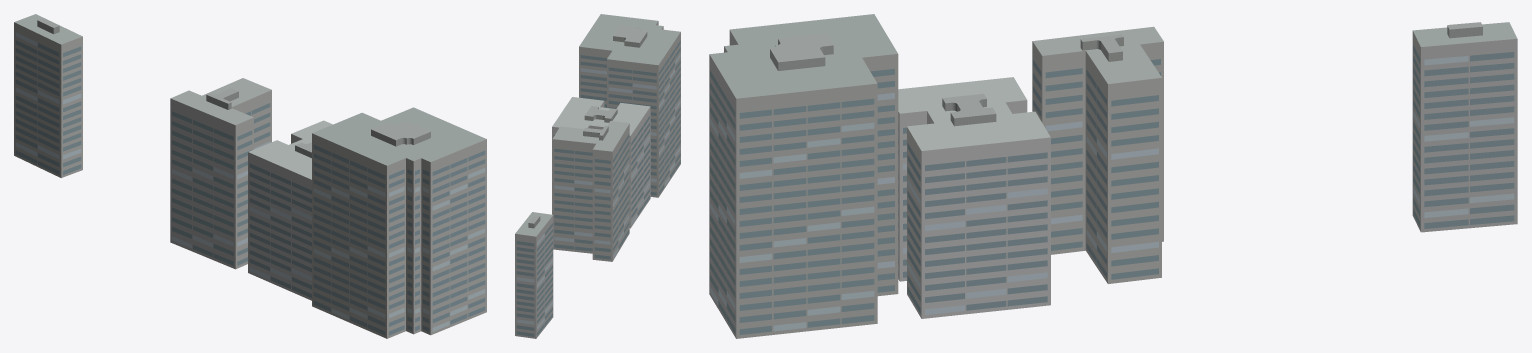
File: apt-a10023815.glb
3 renders of one model, left to right at view 1: azimuth 30°, elevation 25°; view 2: azimuth 150°, elevation 25°; view 3: azimuth 270°, elevation 25°, orthographic. The views are drawn at different scales.
Visible parts, largest first — view 1: apt-a10023815; view 2: apt-a10023815; view 3: apt-a10023815.
Boxes of the visible parts, box(x1,y1,x2,y2) form: apt-a10023815: box(14, 14, 486, 338); apt-a10023815: box(515, 14, 680, 338); apt-a10023815: box(709, 14, 1517, 338).
Bounding box in the file's own units: 77.03 × 68 × 200.
